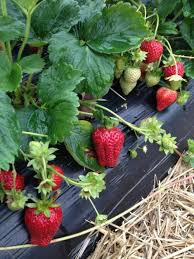ripe: (21, 200, 64, 247), (89, 123, 126, 169), (37, 162, 65, 190), (5, 168, 25, 197), (139, 41, 165, 63), (155, 86, 175, 111), (165, 60, 183, 81)
unripe: (143, 64, 162, 88), (122, 64, 141, 84), (120, 75, 137, 96)
